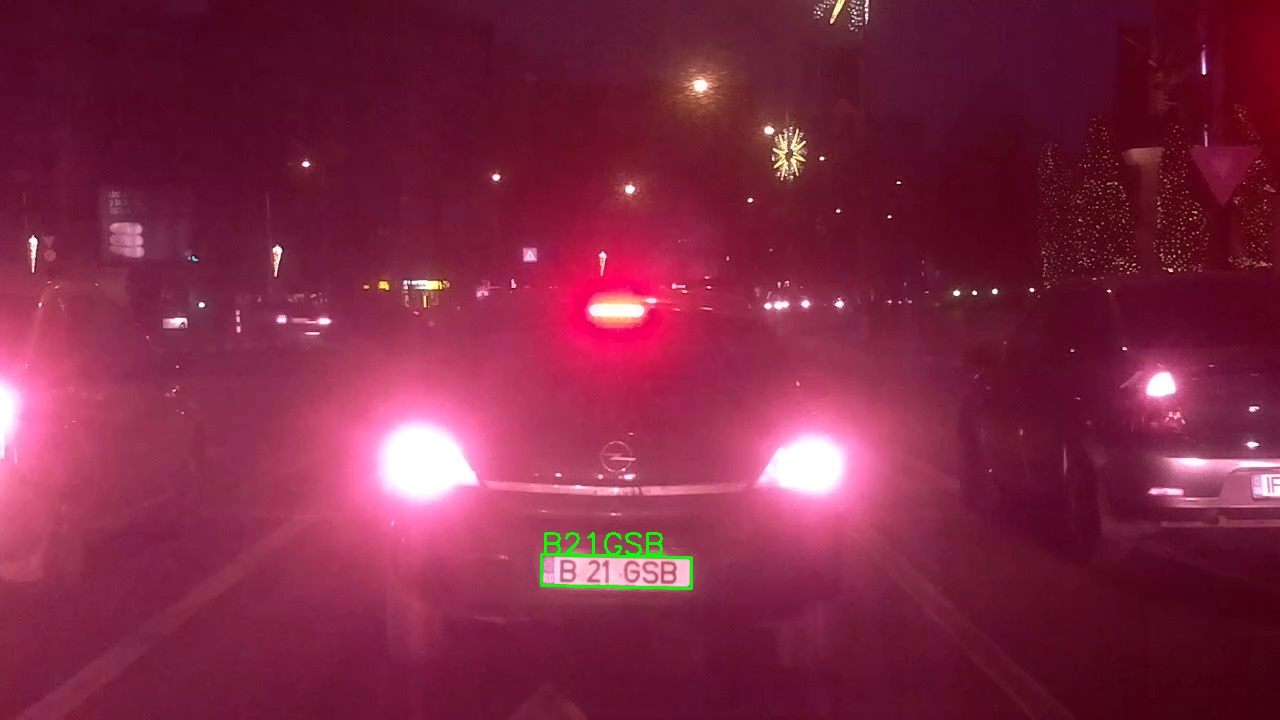license-plate: (540, 554, 693, 589)
